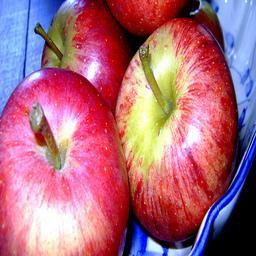apple: (111, 12, 238, 246), (1, 65, 128, 254), (41, 1, 132, 107)
